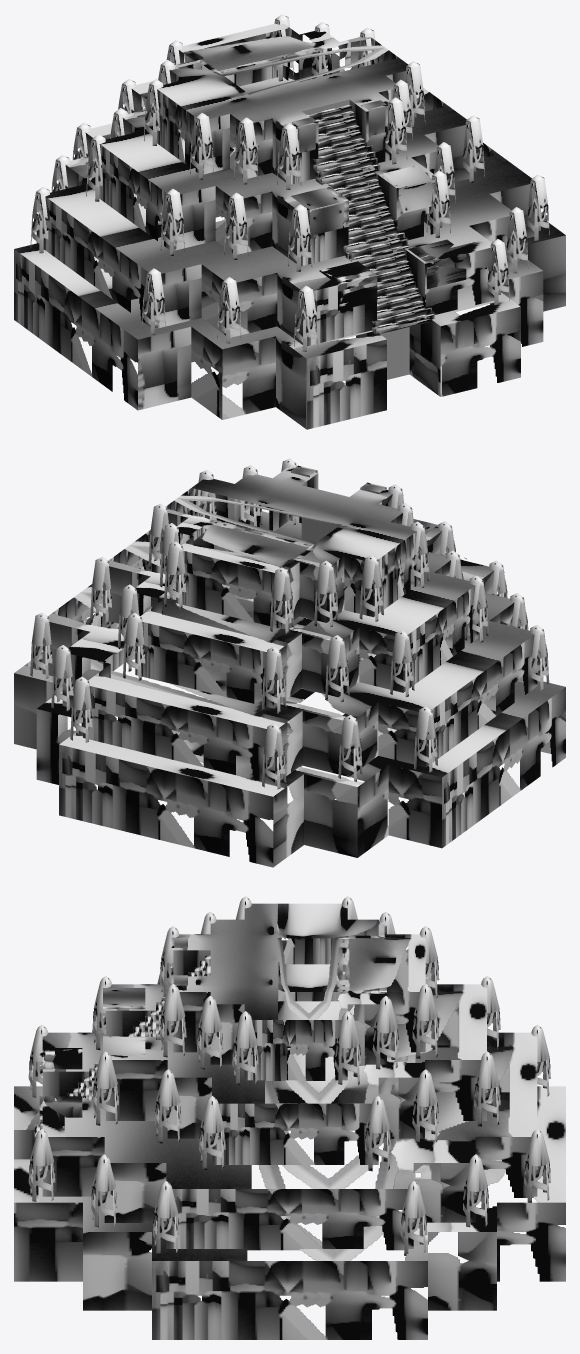
3 renders of one model, top to bottom at view 1: azimuth 30°, elevation 25°; view 2: azimuth 150°, elevation 25°; view 3: azimuth 270°, elevation 25°, orthographic. The views are drawn at different scales.
Visible parts, largest first — view 1: pyramid; view 2: pyramid; view 3: pyramid.
Part boxes in pixels (x1=…): pyramid: x1=14, y1=14, x2=565, y2=429; pyramid: x1=14, y1=458, x2=565, y2=867; pyramid: x1=14, y1=896, x2=565, y2=1339.
Bounding box in the file's own units: 25.02 × 25.08 × 13.47.
